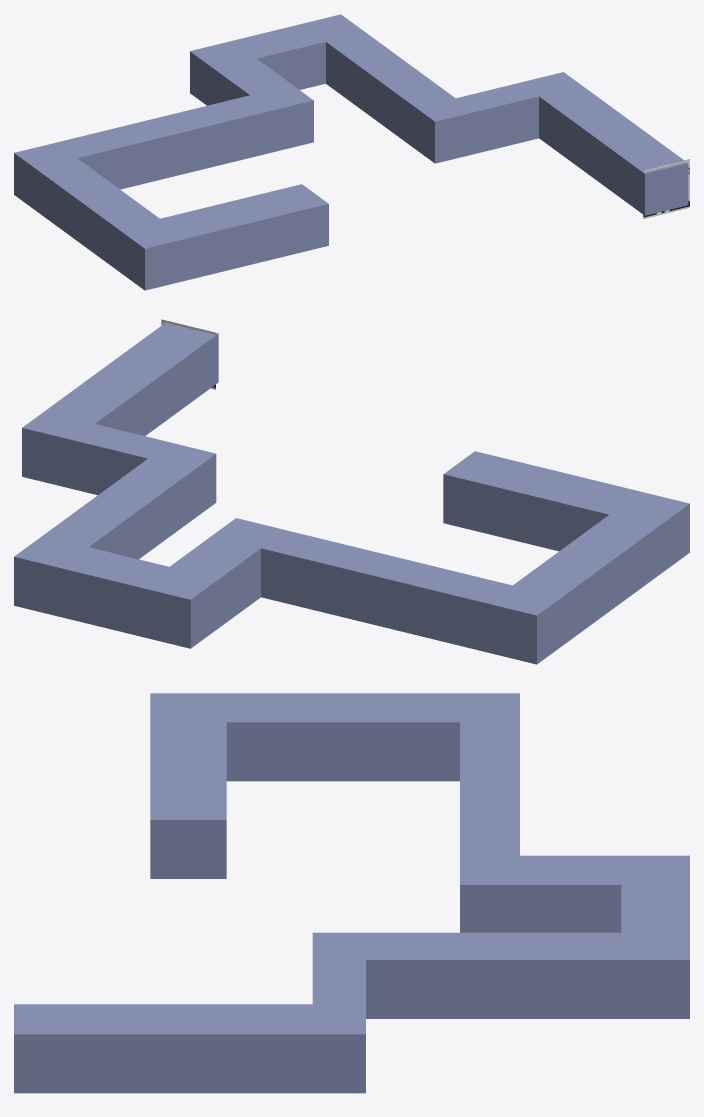
The model's file is downey.glb.
3 views of the same model, one above another, from view 1: azimuth 30°, elevation 25°; view 2: azimuth 150°, elevation 25°; view 3: azimuth 270°, elevation 25° (orthographic). The views are drawn at different scales.
Parts seen in each view (by area): view 1: Cube; view 2: Cube; view 3: Cube.
Boxes of the visible parts, left/top/right/bottom form: Cube: left=14, top=14, right=688, bottom=290; Cube: left=14, top=322, right=689, bottom=664; Cube: left=14, top=693, right=689, bottom=1093.
Size of the model in its own units: 149 by 14 by 124.
Materials: 2 (2 with a texture image).
